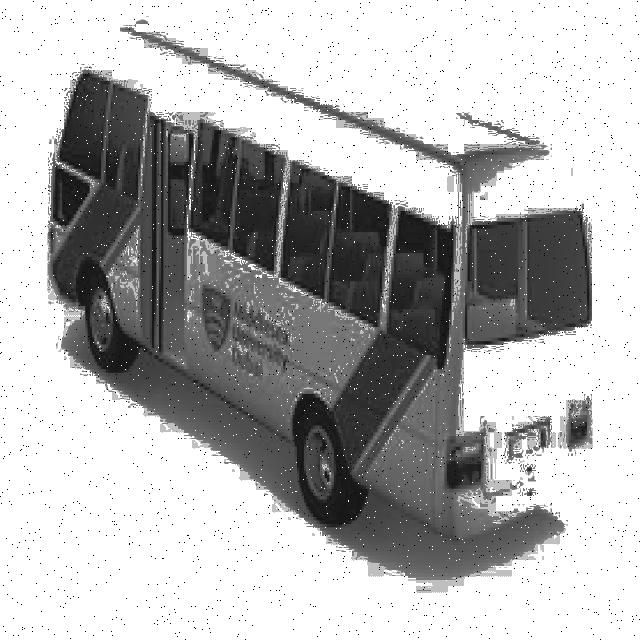Bus: (39, 0, 606, 552)
